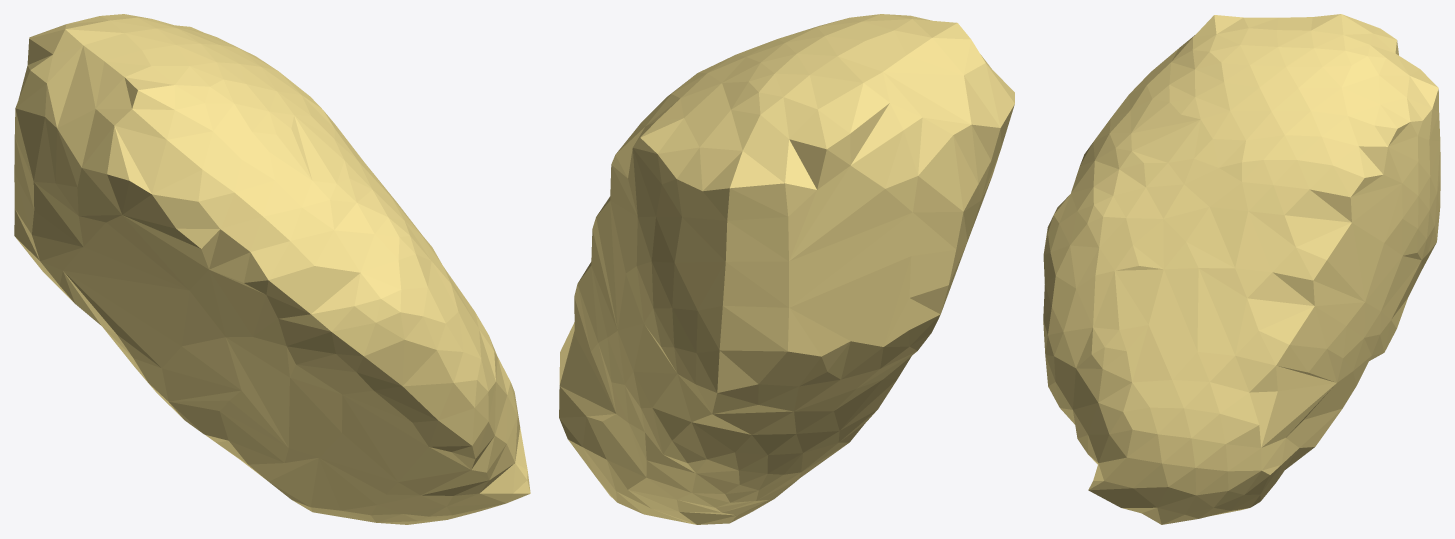
Rendered from Model_181_RH__Medial_amygdaloid_nucleus_(Me).obj.
3 views of the same model, side by side, from view 1: azimuth 30°, elevation 25°; view 2: azimuth 150°, elevation 25°; view 3: azimuth 270°, elevation 25° (orthographic). The views are drawn at different scales.
Bounding box in the file's own units: 1 × 1.19 × 1.07.
